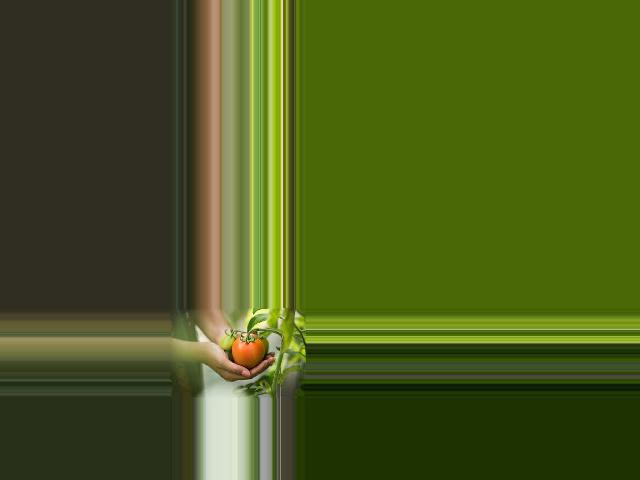tomato: (231, 334, 263, 367)
